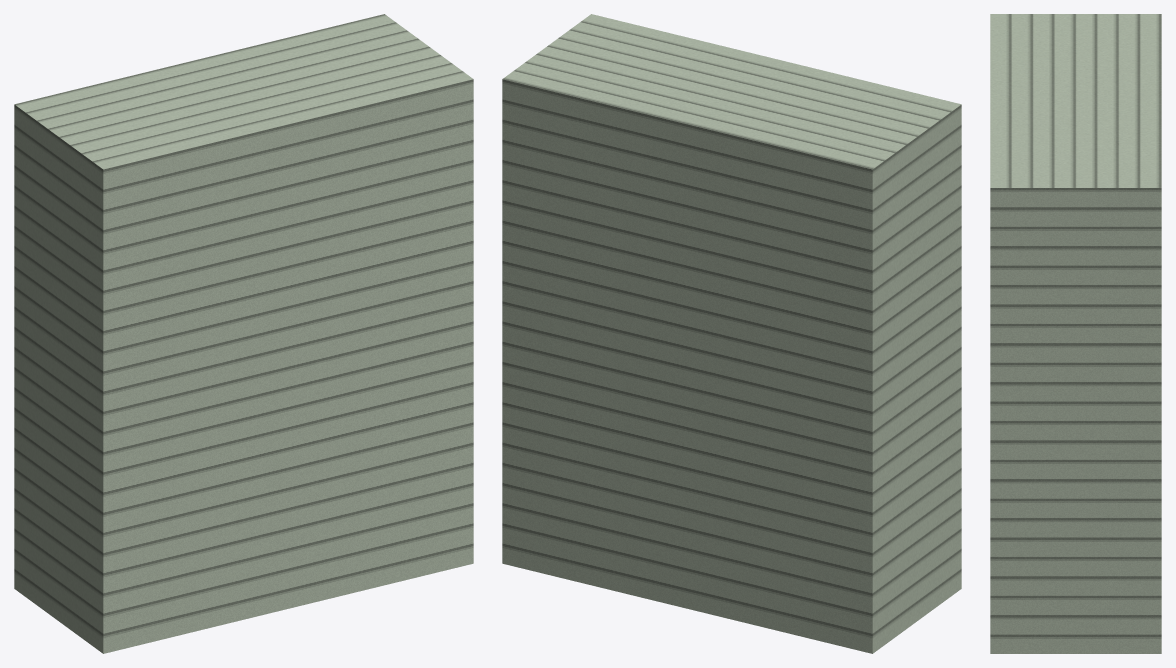
Rendered from heavy_duty_pallet_rack.glb.
3 renders of one model, left to right at view 1: azimuth 30°, elevation 25°; view 2: azimuth 150°, elevation 25°; view 3: azimuth 270°, elevation 25°, orthographic. The views are drawn at different scales.
Visible parts, largest first — view 1: heavy_duty_pallet_rack-col; view 2: heavy_duty_pallet_rack-col; view 3: heavy_duty_pallet_rack-col.
Part boxes in pixels (x1,y1,x2,y2): heavy_duty_pallet_rack-col: [14, 14, 473, 653]; heavy_duty_pallet_rack-col: [502, 14, 961, 653]; heavy_duty_pallet_rack-col: [990, 14, 1161, 653].
Size of the model in its own units: 2.4 by 3 by 1.
1 material, 1 textured.
